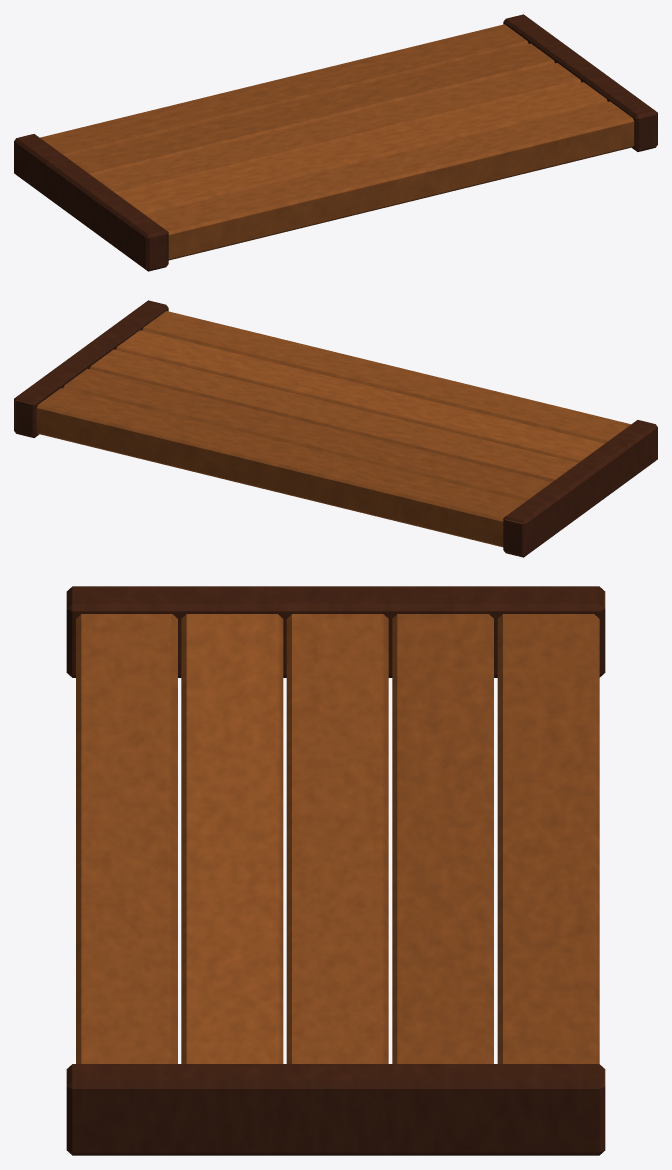
File: TX_D09_Table_Top_2m.fbx
3 views of the same model, one above another, from view 1: azimuth 30°, elevation 25°; view 2: azimuth 150°, elevation 25°; view 3: azimuth 270°, elevation 25° (orthographic). The views are drawn at different scales.
Parts seen in each view (by area): view 1: TX_D09_Table_Top_2m; view 2: TX_D09_Table_Top_2m; view 3: TX_D09_Table_Top_2m.
Boxes of the visible parts, x1,y1,x2,y2 form: TX_D09_Table_Top_2m: (14, 14, 657, 271); TX_D09_Table_Top_2m: (14, 300, 657, 557); TX_D09_Table_Top_2m: (66, 586, 605, 1155).
Bounding box in the file's own units: 2.02 × 0.14 × 0.92.
2 materials, 2 textured.
